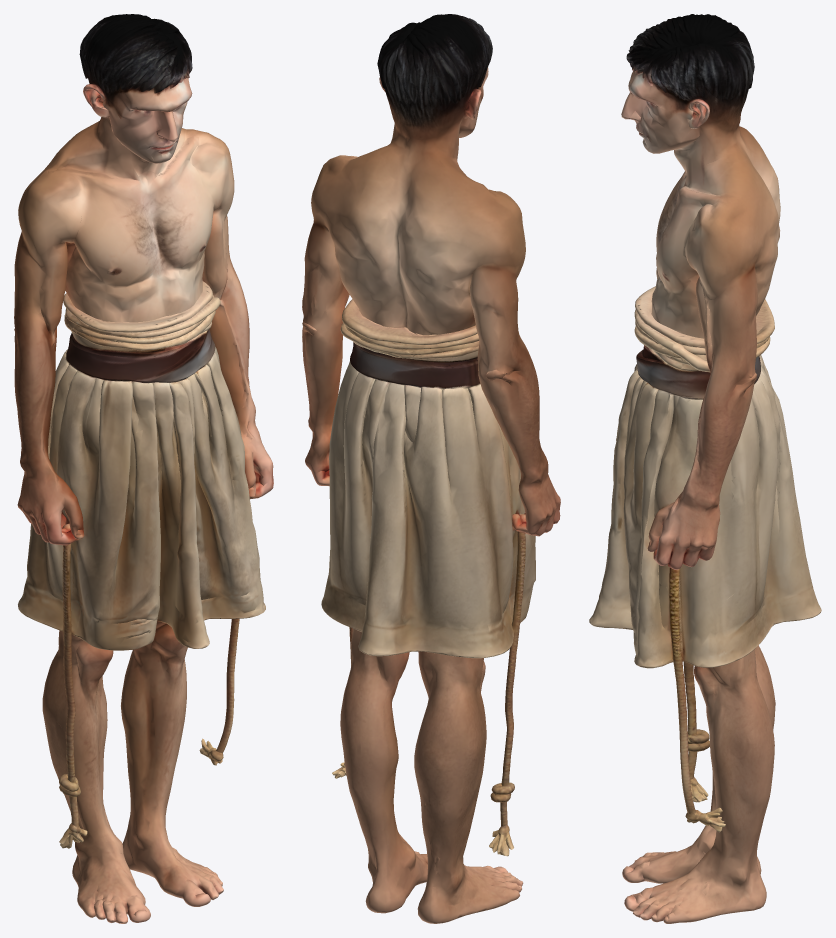
The model's file is crowd_slinger_rodin_source.glb.
3 renders of one model, left to right at view 1: azimuth 30°, elevation 25°; view 2: azimuth 150°, elevation 25°; view 3: azimuth 270°, elevation 25°, orthographic.
Parts seen in each view (by area): view 1: model; view 2: model; view 3: model.
Boxes of the visible parts, <box> form: model: <box>14,14,273,923</box>; model: <box>302,14,560,923</box>; model: <box>589,14,821,923</box>.
Bounding box in the file's own units: 0.5465 × 1.9 × 0.4586.
Materials: 1 (1 with a texture image).
